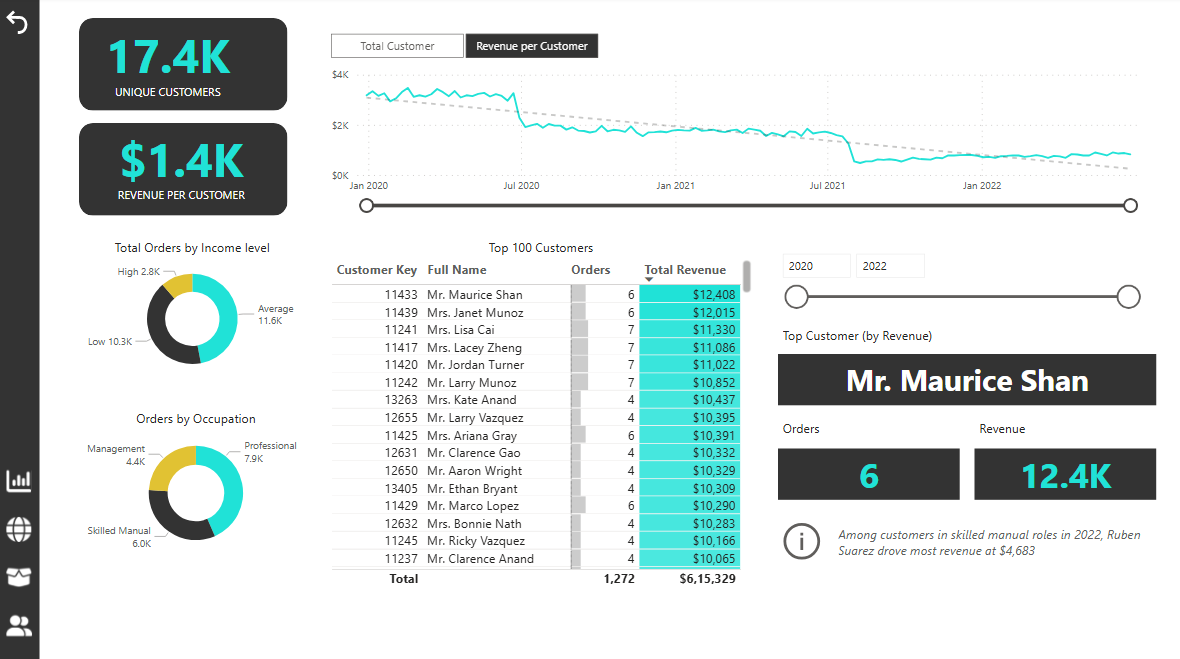

This screenshot's page, from the dashboard's own definition file:
{"tool":"powerbi","page":{"name":"Customer Detail","canvas":[1280,720],"ordinal":3},"visuals":[{"type":"shape","box":[0,0,45,720],"z":0},{"type":"shape","box":[87.3,23.3,225,100],"z":1000},{"type":"actionButton","box":[5.2,608.1,45.3,35.6],"z":1000,"group":"g1"},{"type":"actionButton","box":[5,505,45,35],"z":2000,"group":"g1"},{"type":"card","fields":{"Values":["Measure Table.Total customer"]},"box":[63.5,5,240,128.3],"z":2000},{"type":"actionButton","box":[5.2,556.3,45.3,35.6],"z":3000,"group":"g1"},{"type":"shape","box":[86.8,135.6,225,100],"z":3000},{"type":"card","fields":{"Values":["Measure Table.Average Revenue per Customer"]},"box":[78.4,117.2,240,128.3],"z":4000},{"type":"actionButton","box":[5,660,45,36.2],"z":4000,"group":"g1"},{"type":"lineChart","fields":{"Y":["Measure Table.Average Revenue per Customer"],"Category":["Calendar Lookup.Date hierarchy.Start of Year","Calendar Lookup.Date hierarchy.Start of Month","Calendar Lookup.Date hierarchy.Start of Week","Calendar Lookup.Date hierarchy.Date"]},"box":[354.3,69.6,893.1,166.7],"z":5000},{"type":"donutChart","fields":{"Category":["Customer Lookup.Income level"],"Y":["Measure Table.Total Orders"]},"box":[79.3,260.5,260.5,155.3],"z":6000},{"type":"donutChart","title":"Orders by Occupation","fields":{"Y":["Measure Table.Total Orders"],"Category":["Customer Lookup.Occupation"]},"box":[87.4,444.9,252.4,161.8],"z":7000},{"type":"tableEx","title":"Top 100 Customers","fields":{"Values":["Customer Lookup.CustomerKey","Customer Lookup.Full Name","Measure Table.Total Orders","Measure Table.Total Revenue"]},"box":[354.3,260.5,462.7,380.2],"z":8000},{"type":"card","fields":{"Values":["Customer Lookup.Full Name (Customer Detail)"]},"box":[841.3,385.1,407.7,55],"z":9000},{"type":"card","fields":{"Values":["Measure Table.Total Orders (Customer Detail)"]},"box":[840.8,486.5,195.8,55],"z":10000},{"type":"card","fields":{"Values":["Measure Table.Total Revenue (Customer Detail)"]},"box":[1052.8,486.5,195.8,55],"z":11000},{"type":"textbox","box":[840.8,348.9,195.8,35.6],"z":12000},{"type":"textbox","box":[840.8,449.3,195.8,38.8],"z":13000},{"type":"textbox","box":[1052.8,449.3,195.8,38.8],"z":14000},{"type":"slicer","fields":{"Values":["Calendar Lookup.Year"]},"box":[833.3,267,407.7,71.2],"z":15000},{"type":"actionButton","box":[841.9,561.9,407,51.6],"z":16000},{"type":"actionButton","box":[2.8,9.7,41.7,34.7],"z":17000},{"type":"group","id":"g1","title":"Navigation Buttons","box":[5,505,45.5,191.2],"z":18000},{"type":"slicer","fields":{"Values":["Customer Metric Selection.Customer Metric Selection"]},"box":[333.3,32.4,338.2,40.4],"z":19001}]}

Visuals, with their boxes on the page's 1280x720 design canvas (x1, y1, x2, y2). These are canvas units, not pixel positions in the 1180x659 screenshot, which may show the page scaled, cropped or inside an application window:
shape: 0, 0, 45, 720
shape: 87, 23, 312, 123
actionButton: 5, 608, 50, 644
actionButton: 5, 505, 50, 540
card - Measure Table.Total customer: 64, 5, 304, 133
actionButton: 5, 556, 50, 592
shape: 87, 136, 312, 236
card - Measure Table.Average Revenue per Customer: 78, 117, 318, 246
actionButton: 5, 660, 50, 696
lineChart - Measure Table.Average Revenue per Customer x Calendar Lookup.Date hierarchy.Start of Year: 354, 70, 1247, 236
donutChart - Customer Lookup.Income level x Measure Table.Total Orders: 79, 260, 340, 416
"Orders by Occupation" donutChart: 87, 445, 340, 607
"Top 100 Customers" tableEx: 354, 260, 817, 641
card - Customer Lookup.Full Name (Customer Detail): 841, 385, 1249, 440
card - Measure Table.Total Orders (Customer Detail): 841, 486, 1037, 542
card - Measure Table.Total Revenue (Customer Detail): 1053, 486, 1249, 542
textbox: 841, 349, 1037, 384
textbox: 841, 449, 1037, 488
textbox: 1053, 449, 1249, 488
slicer - Calendar Lookup.Year: 833, 267, 1241, 338
actionButton: 842, 562, 1249, 614
actionButton: 3, 10, 44, 44
"Navigation Buttons" group: 5, 505, 50, 696
slicer - Customer Metric Selection.Customer Metric Selection: 333, 32, 672, 73
